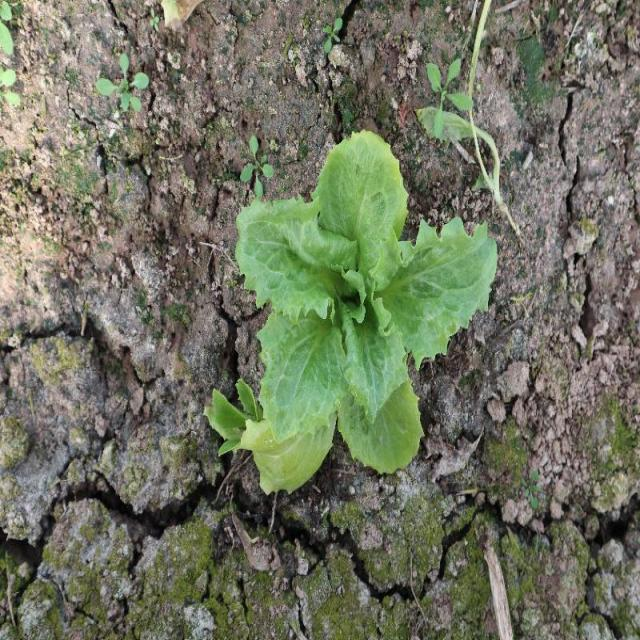crop: (206, 128, 500, 495)
